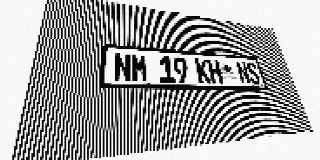1: (158, 56, 175, 83)
9: (173, 57, 190, 83)
H: (207, 59, 224, 84)
K: (195, 58, 211, 84)
M: (131, 54, 148, 83)
N: (114, 52, 131, 82), (235, 61, 252, 84)
S: (245, 62, 262, 84)
